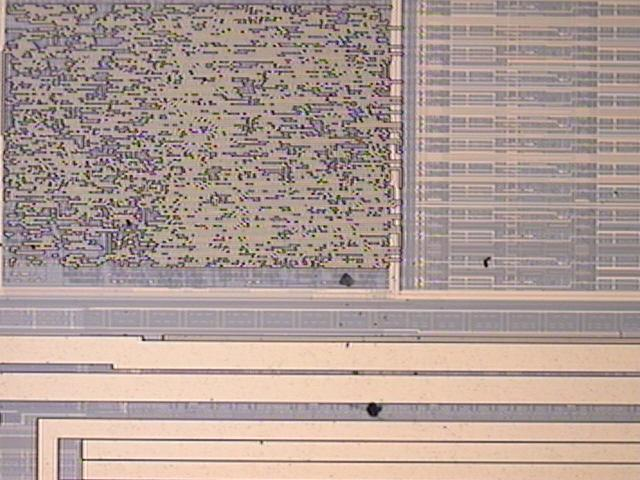PO CONTAMINATION: (259, 189, 624, 449)
